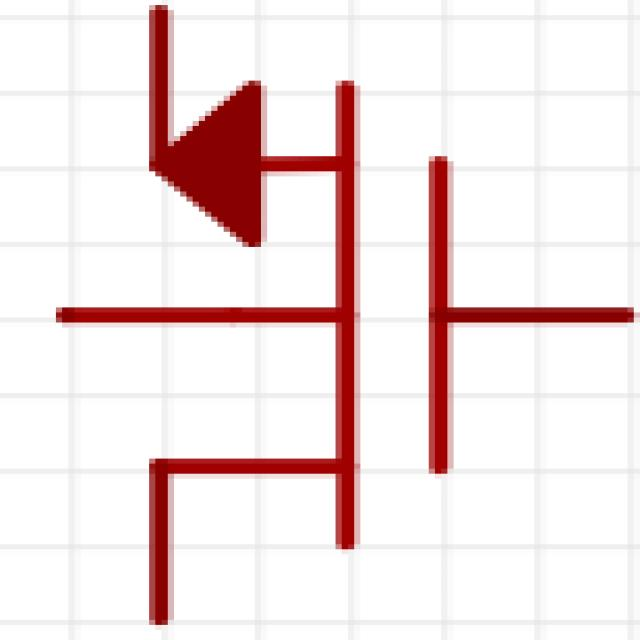nmos: (43, 10, 640, 615)
